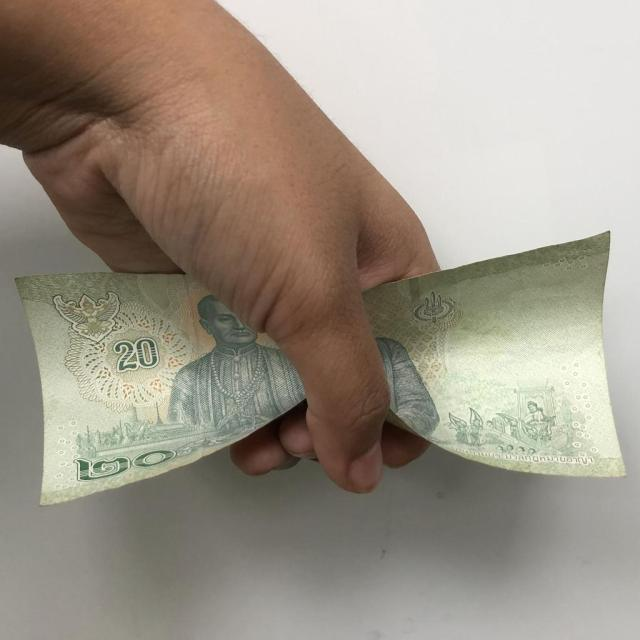THAI20: (17, 274, 304, 504), (366, 233, 624, 476)
